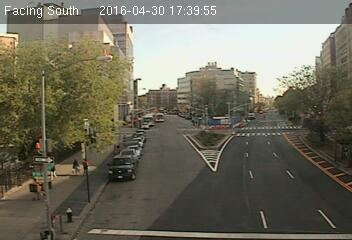neg: (121, 115, 137, 137), (63, 205, 77, 225), (227, 111, 241, 129)
pos: (68, 157, 83, 177)
